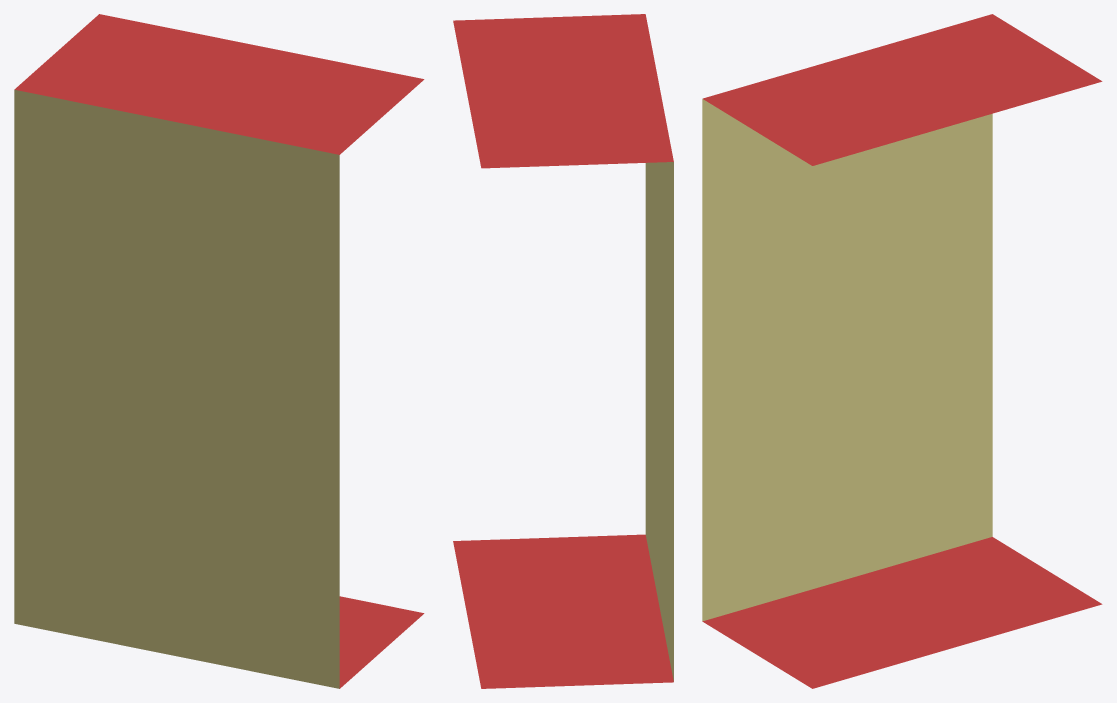
3 renders of one model, left to right at view 1: azimuth 30°, elevation 25°; view 2: azimuth 150°, elevation 25°; view 3: azimuth 270°, elevation 25°, orthographic. The views are drawn at different scales.
Bounding box in the file's own units: 5.24 × 5.83 × 8.4.
